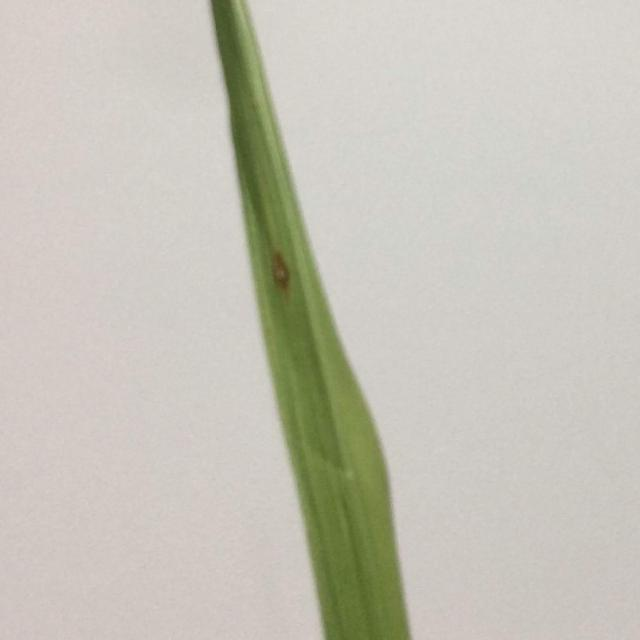Blast: (266, 250, 300, 294)
